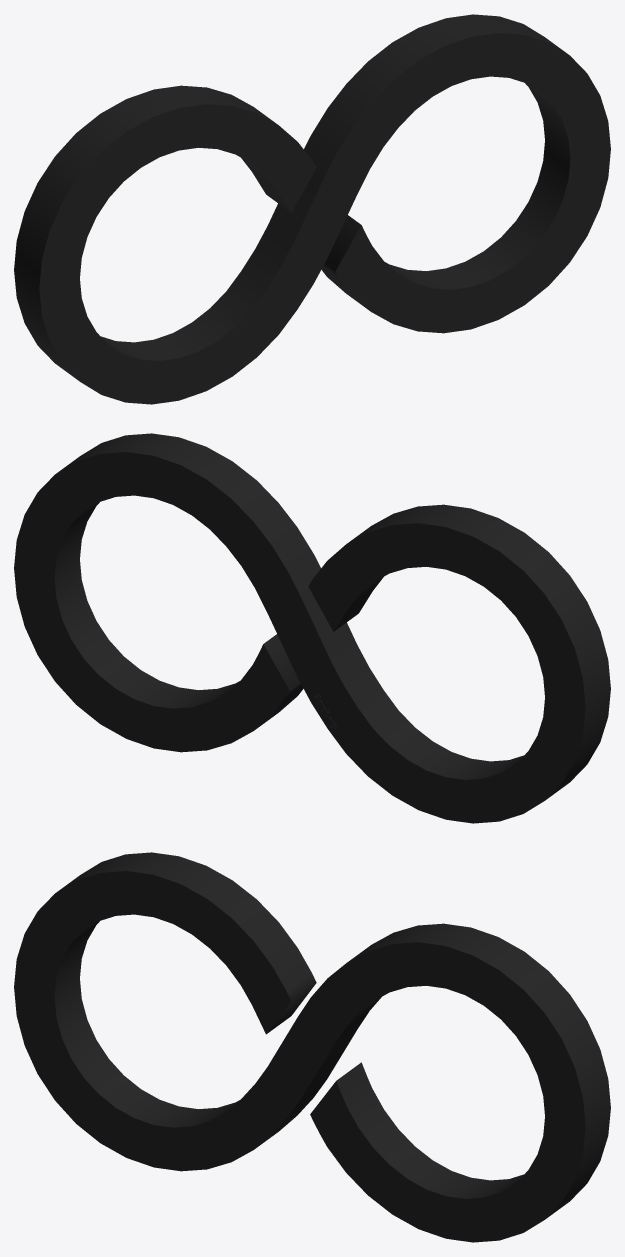
Rendered from infinity.fbx.
3 renders of one model, top to bottom at view 1: azimuth 30°, elevation 25°; view 2: azimuth 150°, elevation 25°; view 3: azimuth 330°, elevation 25°, orthographic.
Visible parts, largest first — view 1: Cube.6443; view 2: Cube.6443; view 3: Cube.6443.
Part boxes in pixels (left/top/right/bottom): Cube.6443: left=14, top=14, right=610, bottom=404; Cube.6443: left=14, top=433, right=610, bottom=823; Cube.6443: left=14, top=852, right=610, bottom=1242.
Bounding box in the file's own units: 232 × 113 × 18.11.
1 material, 1 textured.
